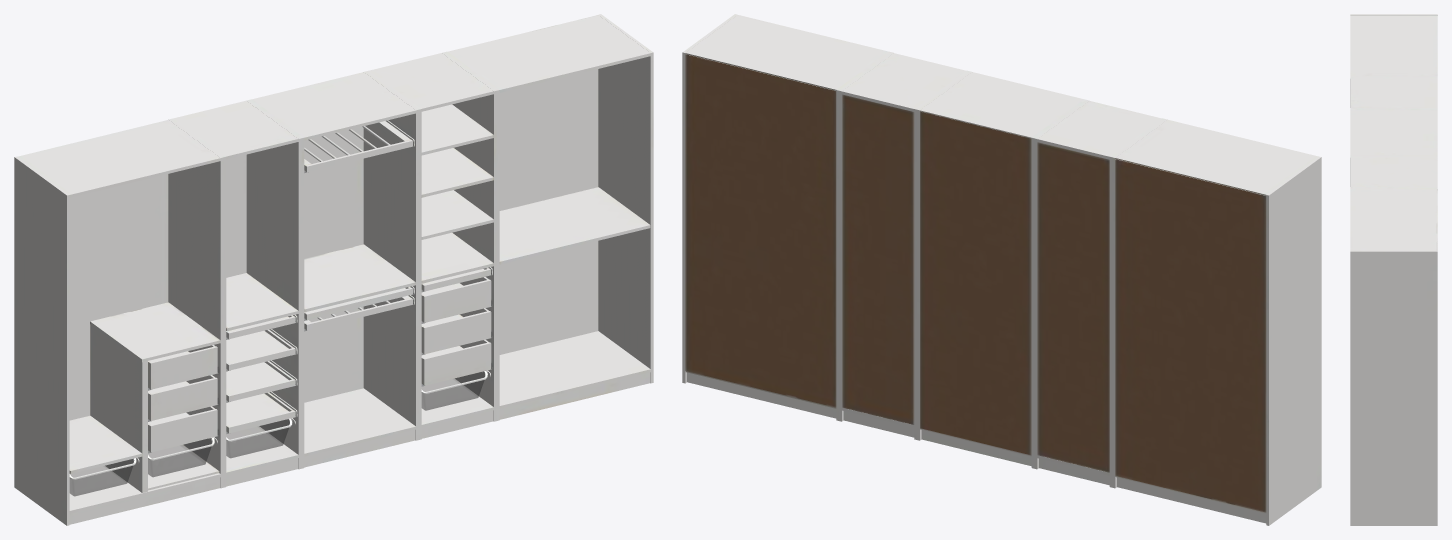
Rendered from pax_kombinacja_szafy_99420262.glb.
3 views of the same model, side by side, from view 1: azimuth 30°, elevation 25°; view 2: azimuth 150°, elevation 25°; view 3: azimuth 270°, elevation 25° (orthographic). The views are drawn at different scales.
Visible parts, largest first — view 1: pax_kombinacja_szafy_99420262; view 2: pax_kombinacja_szafy_99420262; view 3: pax_kombinacja_szafy_99420262.
Part boxes in pixels (x1,y1,x2,y2): pax_kombinacja_szafy_99420262: [14, 14, 653, 525]; pax_kombinacja_szafy_99420262: [682, 14, 1321, 525]; pax_kombinacja_szafy_99420262: [1350, 14, 1437, 525].
Bounding box in the file's own units: 3.74 × 2.01 × 0.5801.
Materials: 2 (2 with a texture image).
